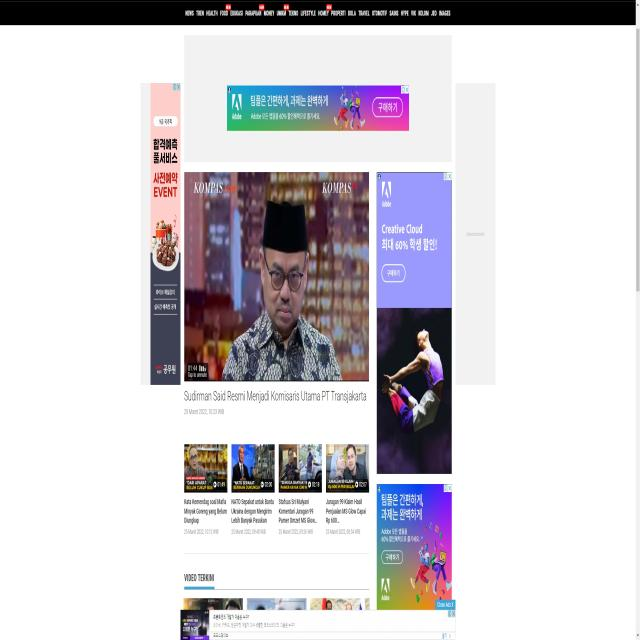menu-bar: (181, 4, 451, 18)
side-panel: (373, 169, 455, 632)
